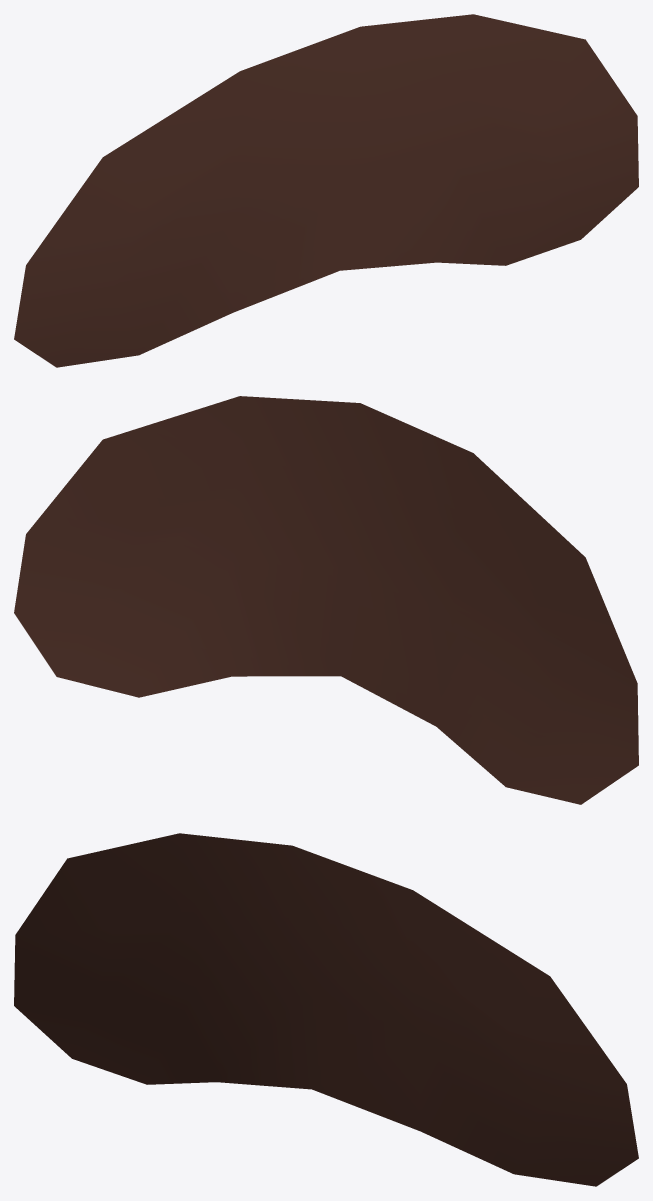
File: Mouth_Black_7.fbx
3 views of the same model, one above another, from view 1: azimuth 30°, elevation 25°; view 2: azimuth 150°, elevation 25°; view 3: azimuth 330°, elevation 25° (orthographic).
Visible parts, largest first — view 1: Mouth_Black_7; view 2: Mouth_Black_7; view 3: Mouth_Black_7.
Boxes of the visible parts, x1=… form: Mouth_Black_7: x1=14, y1=14, x2=638, y2=367; Mouth_Black_7: x1=14, y1=396, x2=638, y2=804; Mouth_Black_7: x1=14, y1=833, x2=638, y2=1186.
Size of the model in its own units: 7.44 by 3.55 by 0.8569.
